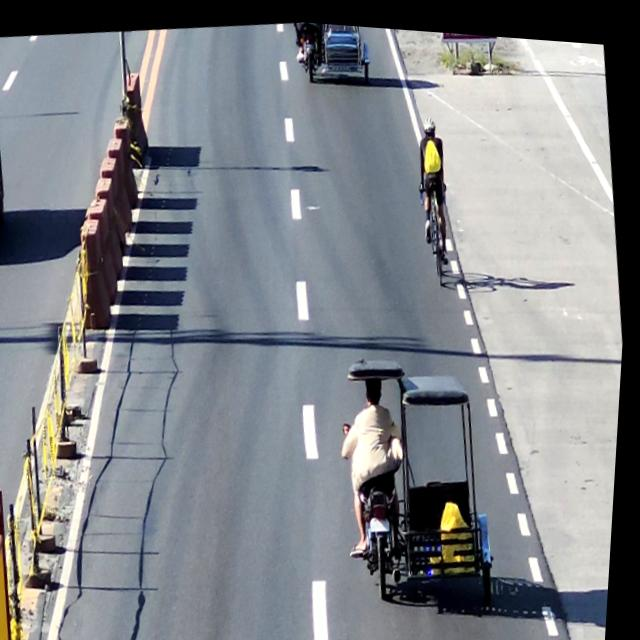Bicycle: (406, 103, 469, 288)
Car: (0, 67, 21, 269)
License-Plate: (373, 508, 402, 535)
Tricycle: (328, 338, 523, 615), (291, 17, 377, 83)
